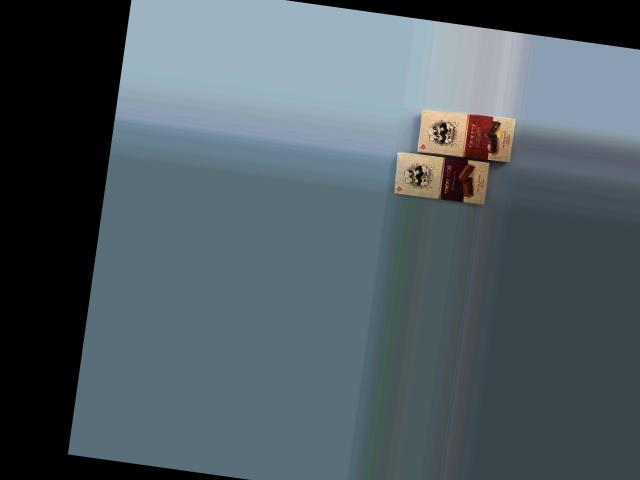chocolate: (410, 104, 518, 174)
